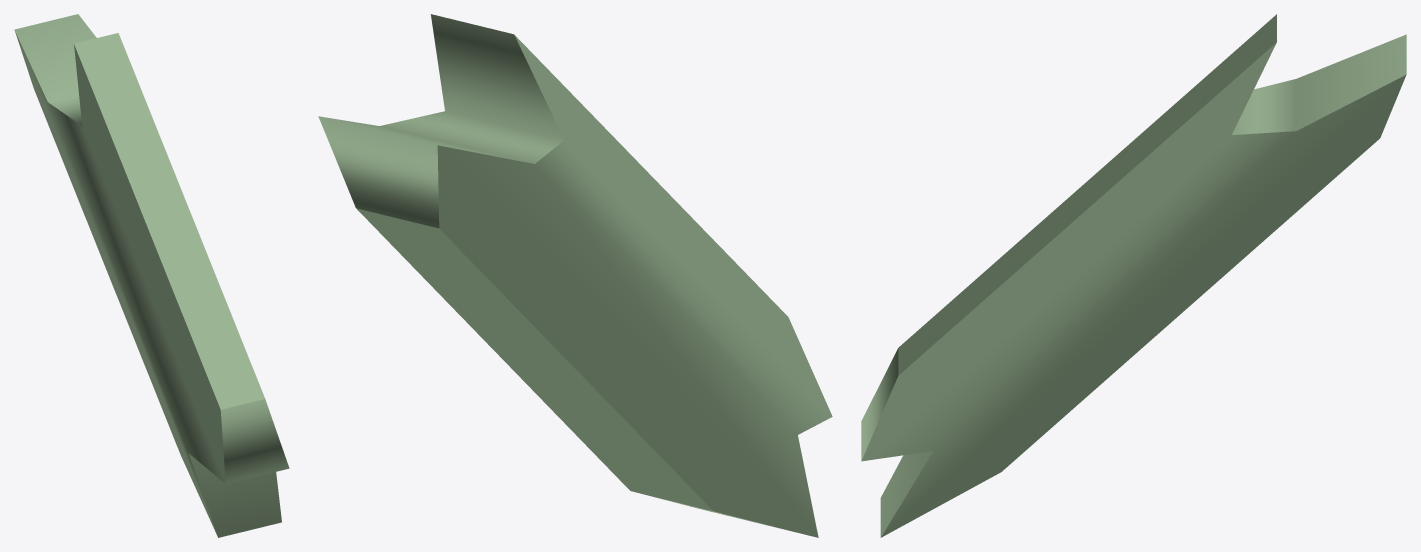
Rendered from SwordGreenShard.fbx.
3 views of the same model, side by side, from view 1: azimuth 30°, elevation 25°; view 2: azimuth 150°, elevation 25°; view 3: azimuth 270°, elevation 25° (orthographic). The views are drawn at different scales.
Parts seen in each view (by area): view 1: polySurface44; view 2: polySurface44; view 3: polySurface44.
Part boxes in pixels (x1,y1,x2,y2): polySurface44: (14, 14, 289, 537); polySurface44: (318, 14, 832, 537); polySurface44: (861, 14, 1406, 537).
Size of the model in its own units: 0.8359 by 3.65 by 3.68.
